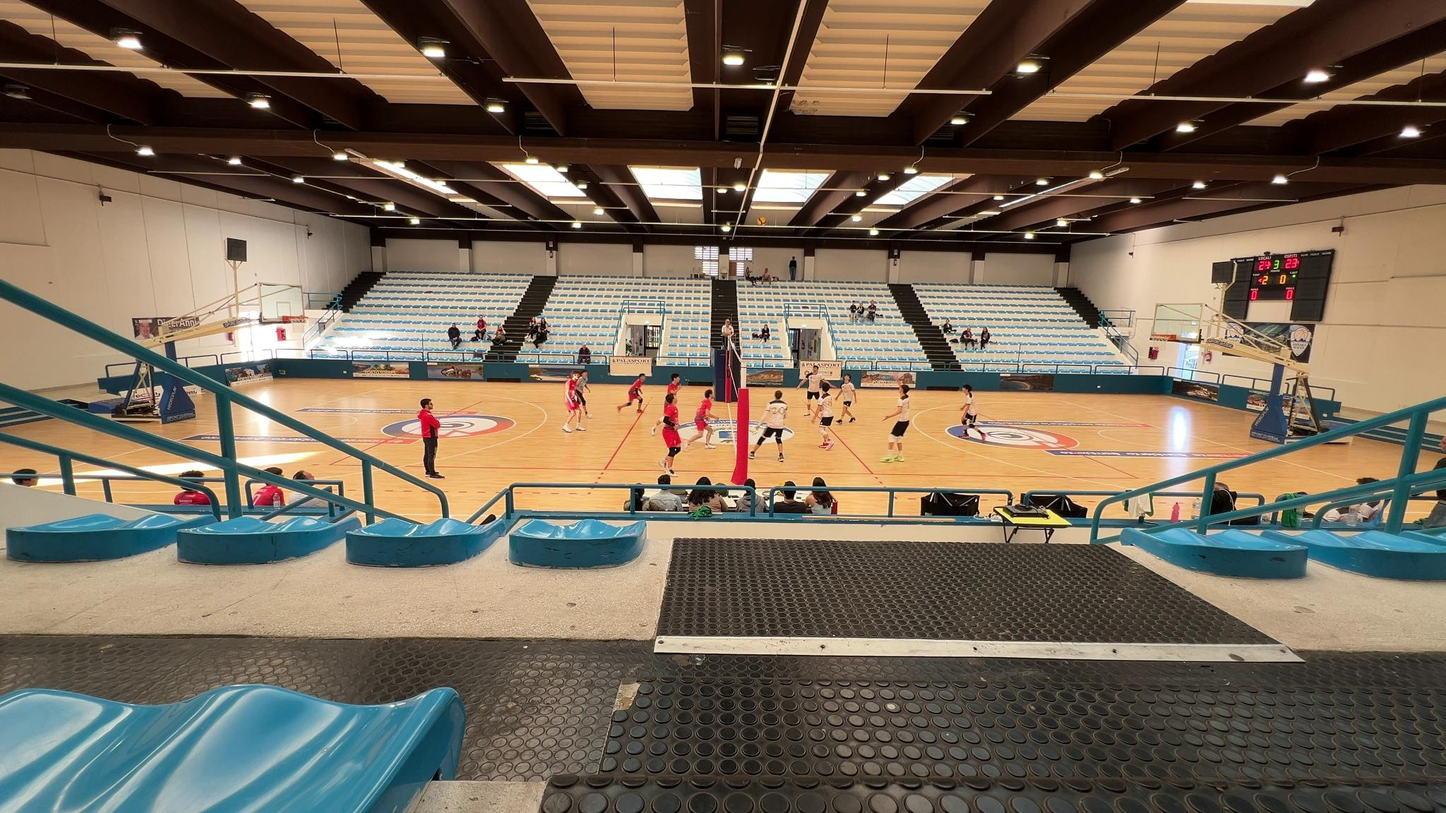volleyball court: (333, 400, 1141, 480)
